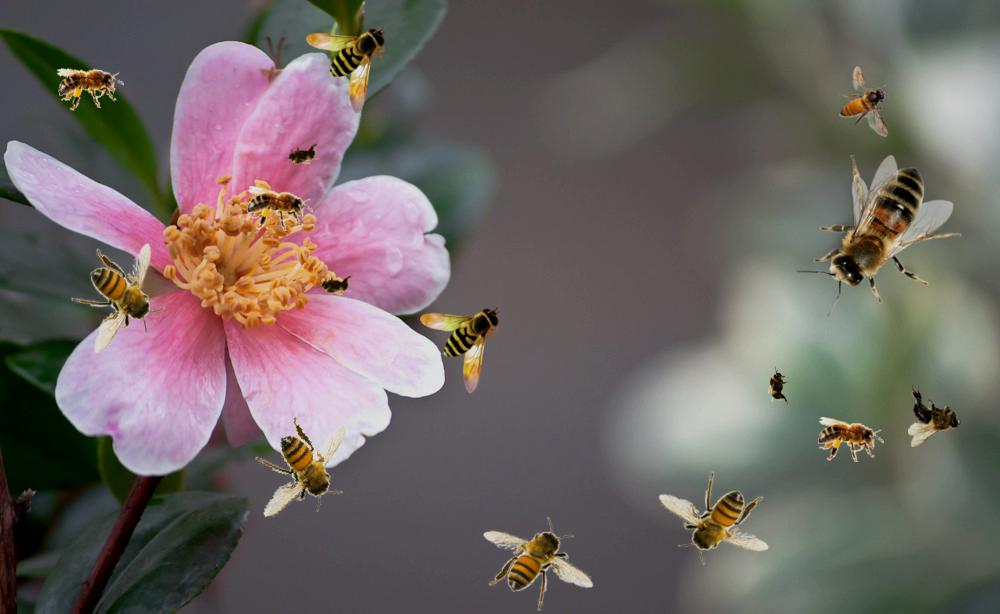Bee: (795, 155, 962, 317), (240, 403, 361, 537), (483, 517, 594, 611), (658, 471, 769, 565), (71, 243, 165, 354), (306, 26, 388, 114), (420, 306, 502, 394), (54, 59, 128, 114), (839, 66, 889, 137), (908, 385, 961, 447), (818, 417, 884, 462), (247, 186, 313, 231), (280, 141, 324, 169), (767, 366, 789, 406), (315, 274, 355, 296)
